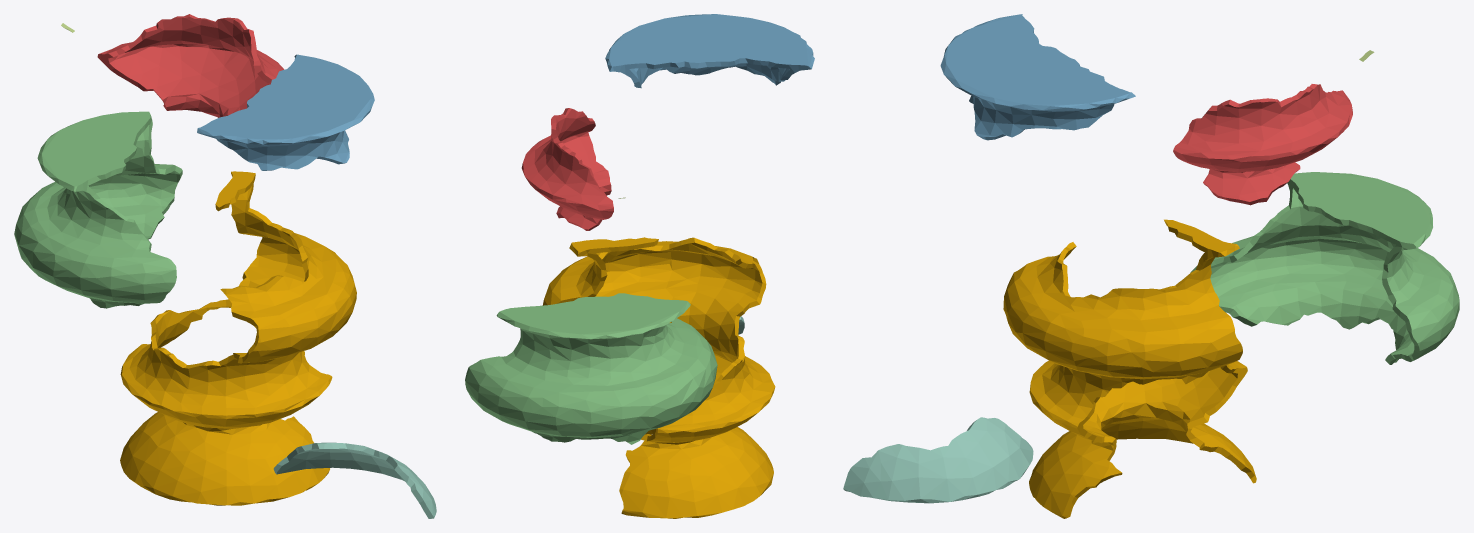
The model's file is mode_11_6pcs_transformed.glb.
The picture shows the model from 3 angles, left to right: view 1: azimuth 30°, elevation 25°; view 2: azimuth 150°, elevation 25°; view 3: azimuth 270°, elevation 25°; orthographic projection. The views are drawn at different scales.
Parts seen in each view (by area): view 1: piece_0.obj, piece_3.obj, piece_2.obj, piece_1.obj, piece_4.obj; view 2: piece_0.obj, piece_3.obj, piece_2.obj, piece_1.obj; view 3: piece_0.obj, piece_3.obj, piece_2.obj, piece_1.obj, piece_4.obj.
Part boxes in pixels (left/top/right/bottom): piece_0.obj: left=120, top=171, right=356, bottom=505; piece_3.obj: left=14, top=111, right=182, bottom=308; piece_2.obj: left=197, top=54, right=374, bottom=170; piece_1.obj: left=97, top=14, right=284, bottom=117; piece_4.obj: left=273, top=442, right=436, bottom=518; piece_0.obj: left=542, top=237, right=775, bottom=518; piece_3.obj: left=465, top=293, right=717, bottom=444; piece_2.obj: left=605, top=14, right=814, bottom=88; piece_1.obj: left=521, top=108, right=613, bottom=230; piece_0.obj: left=1003, top=219, right=1256, bottom=518; piece_3.obj: left=1190, top=172, right=1459, bottom=364; piece_2.obj: left=940, top=14, right=1135, bottom=140; piece_1.obj: left=1173, top=84, right=1352, bottom=205; piece_4.obj: left=843, top=417, right=1033, bottom=503.
Size of the model in its own units: 0.9504 by 1.6 by 2.09.
